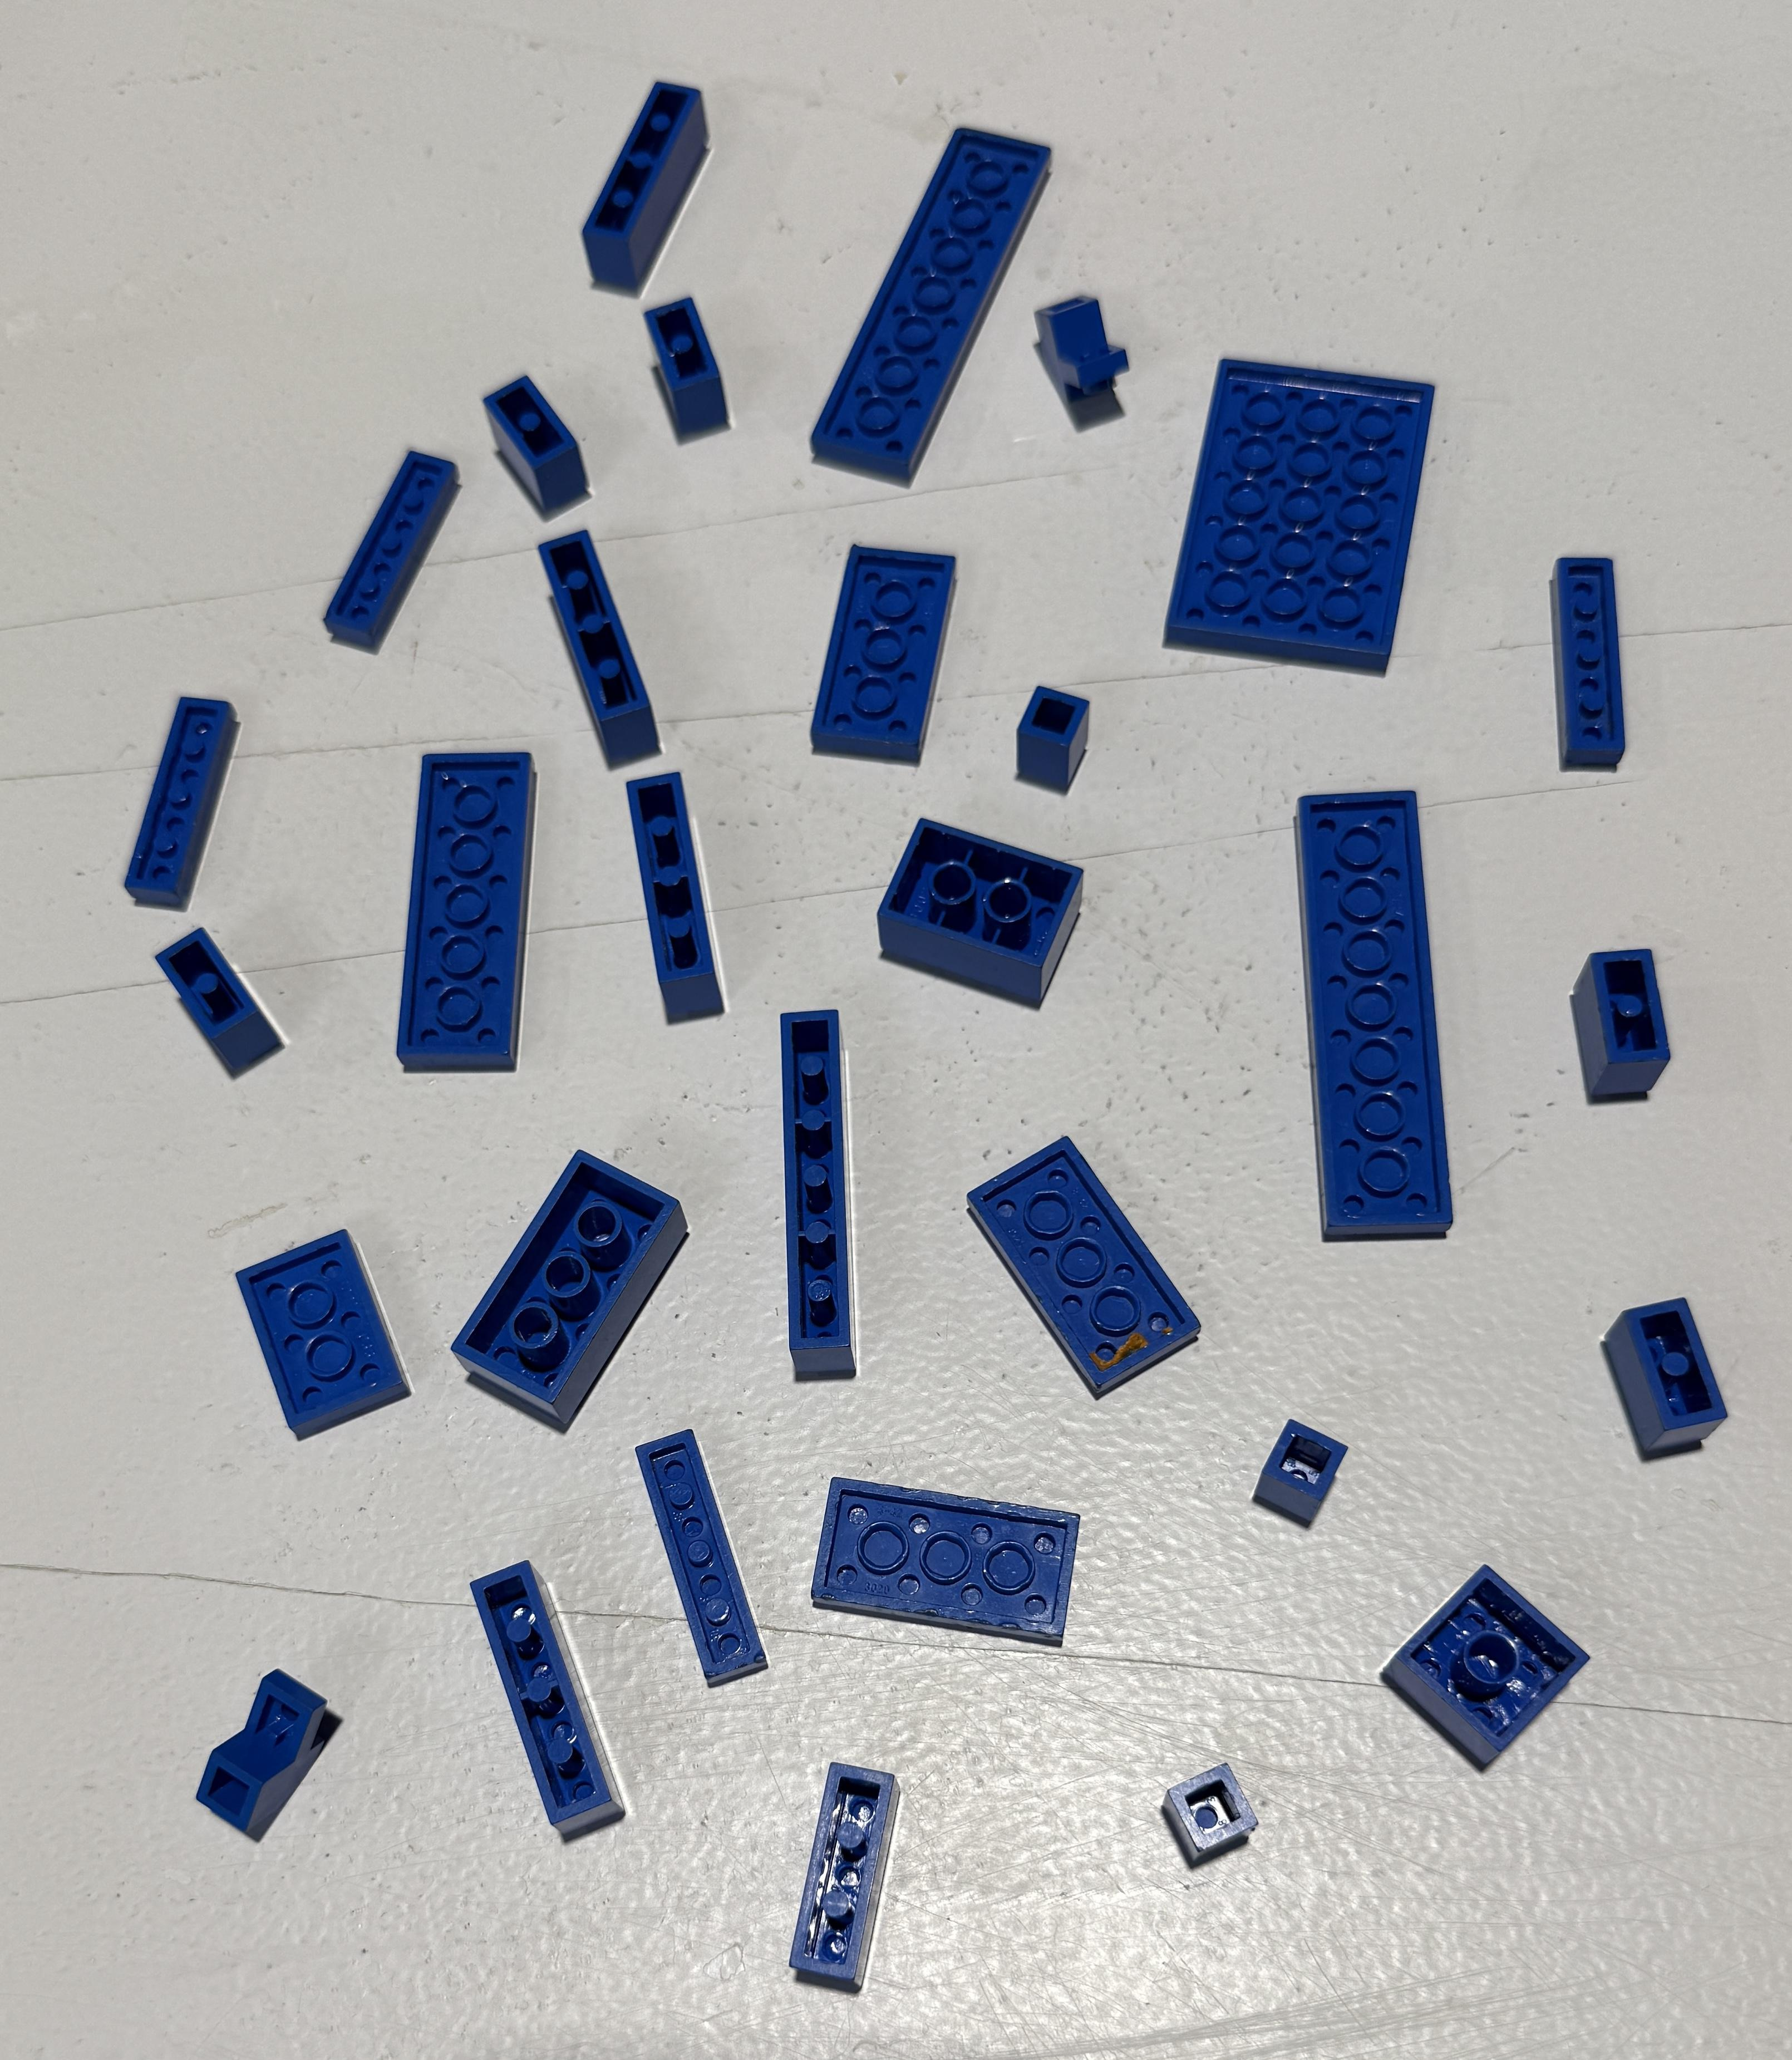brick_1x1: (1125, 1727, 1291, 1888), (1238, 1387, 1379, 1545), (993, 664, 1128, 815)
brick_1x2: (109, 914, 326, 1091), (1584, 1273, 1748, 1492), (615, 273, 764, 464), (1552, 925, 1694, 1123), (462, 352, 615, 526)
brick_1x3: (757, 1741, 934, 2020)
brick_1x4: (445, 1540, 643, 1860), (513, 511, 715, 788), (608, 753, 751, 1048)
brick_2x2: (1356, 1543, 1613, 1790)
brick_2x3: (860, 794, 1095, 1025)
brick_2x4: (436, 1132, 697, 1440)
